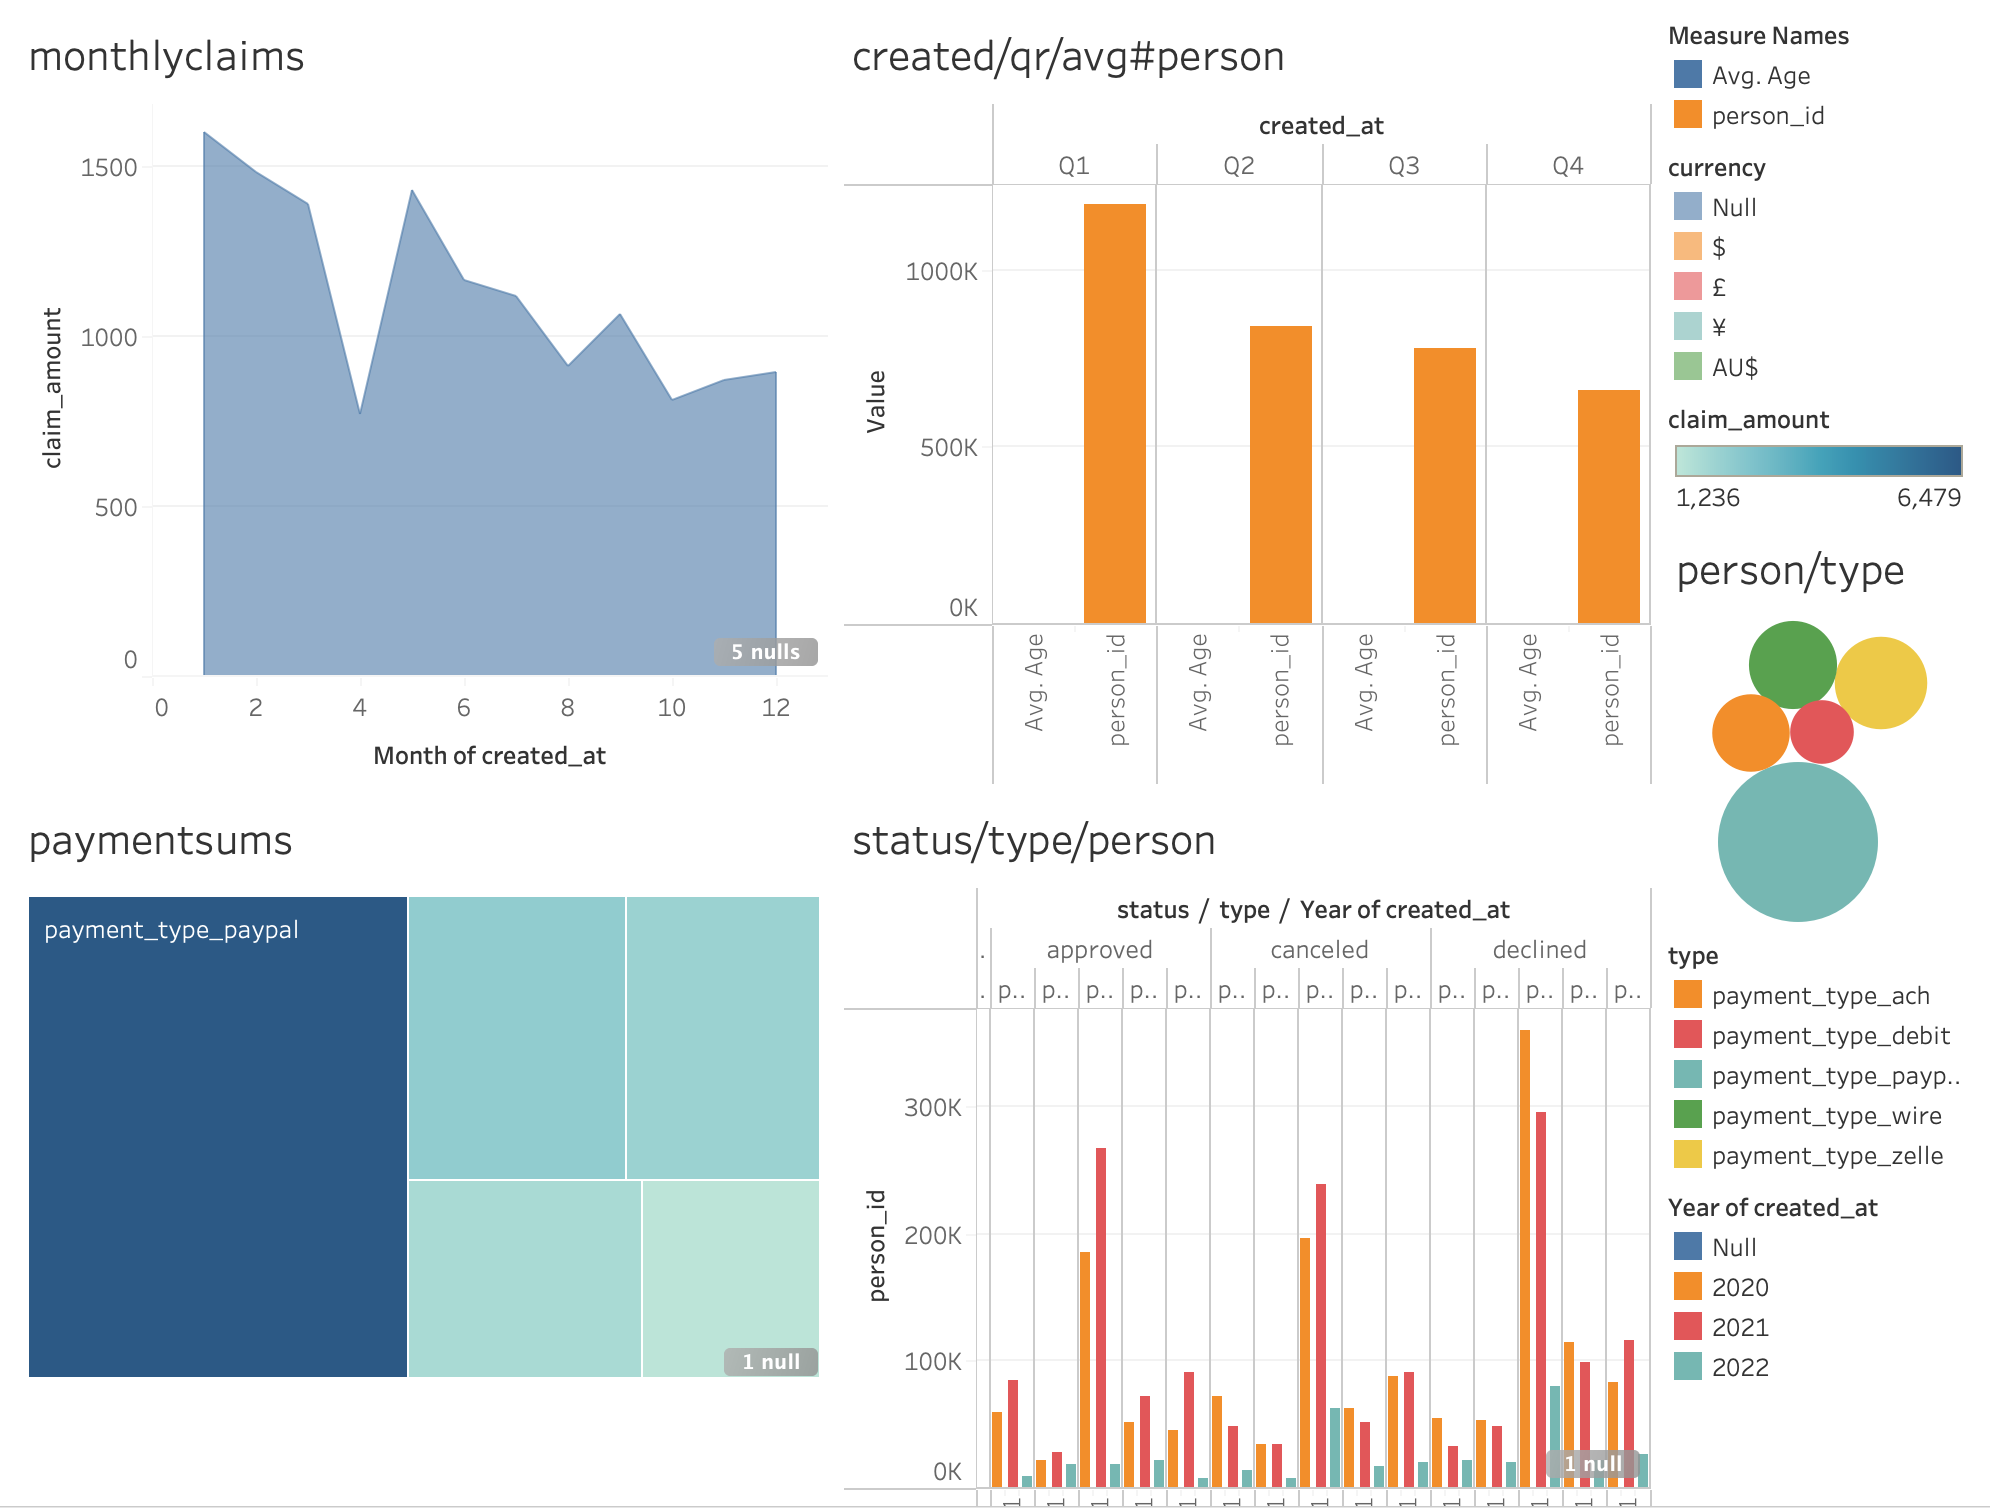

The page's visual inventory and layout, read from the dashboard file:
{"tool":"tableau","page":{"name":"Dashboard 1","canvas":[1000,800],"ordinal":0},"visuals":[{"type":"worksheet","title":"monthlyclaims","mark":"Area","rows":["claim_amount"],"cols":["created_at"],"box":[8,8,412,392]},{"type":"worksheet","title":"created/qr/avg#person","mark":"Bar","cols":["created_at"],"box":[420,8,412,392]},{"type":"legend","title":"created/qr/avg#person","param":"[federated.005b3rv0rriawp1690tqe1m7whpn].[:Measure Names]","box":[832,8,160,66]},{"type":"legend","title":"monthlyclaims","param":"[federated.005b3rv0rriawp1690tqe1m7whpn].[none:currency:nk]","box":[832,74,160,126]},{"type":"legend","title":"paymentsums","param":"[federated.005b3rv0rriawp1690tqe1m7whpn].[sum:claim_amount:qk]","box":[832,200,160,65]},{"type":"worksheet","title":"person/type","mark":"Circle","box":[832,265,160,203]},{"type":"worksheet","title":"paymentsums","mark":"Automatic","box":[8,400,412,392]},{"type":"worksheet","title":"status/type/person","mark":"Bar","rows":["person_id"],"cols":["status","type","created_at"],"box":[420,400,412,392]},{"type":"legend","title":"person/type","param":"[federated.005b3rv0rriawp1690tqe1m7whpn].[none:type:nk]","box":[832,468,160,126]},{"type":"legend","title":"status/type/person","param":"[federated.005b3rv0rriawp1690tqe1m7whpn].[tyr:created_at:ok]","box":[832,594,160,106]}]}

Visuals, with their boxes on the page's 1000x800 design canvas (x1, y1, x2, y2). These are canvas units, not pixel positions in the 1990x1508 screenshot, which may show the page scaled, cropped or inside an application window:
"monthlyclaims" worksheet (Area marks): <box>8,8,420,400</box>
"created/qr/avg#person" worksheet (Bar marks): <box>420,8,832,400</box>
"created/qr/avg#person" legend: <box>832,8,992,74</box>
"monthlyclaims" legend: <box>832,74,992,200</box>
"paymentsums" legend: <box>832,200,992,265</box>
"person/type" worksheet (Circle marks): <box>832,265,992,468</box>
"paymentsums" worksheet: <box>8,400,420,792</box>
"status/type/person" worksheet (Bar marks): <box>420,400,832,792</box>
"person/type" legend: <box>832,468,992,594</box>
"status/type/person" legend: <box>832,594,992,700</box>
